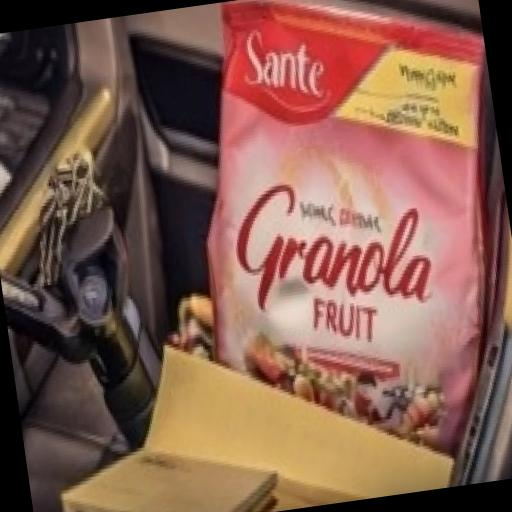granola: (145, 0, 512, 495)
